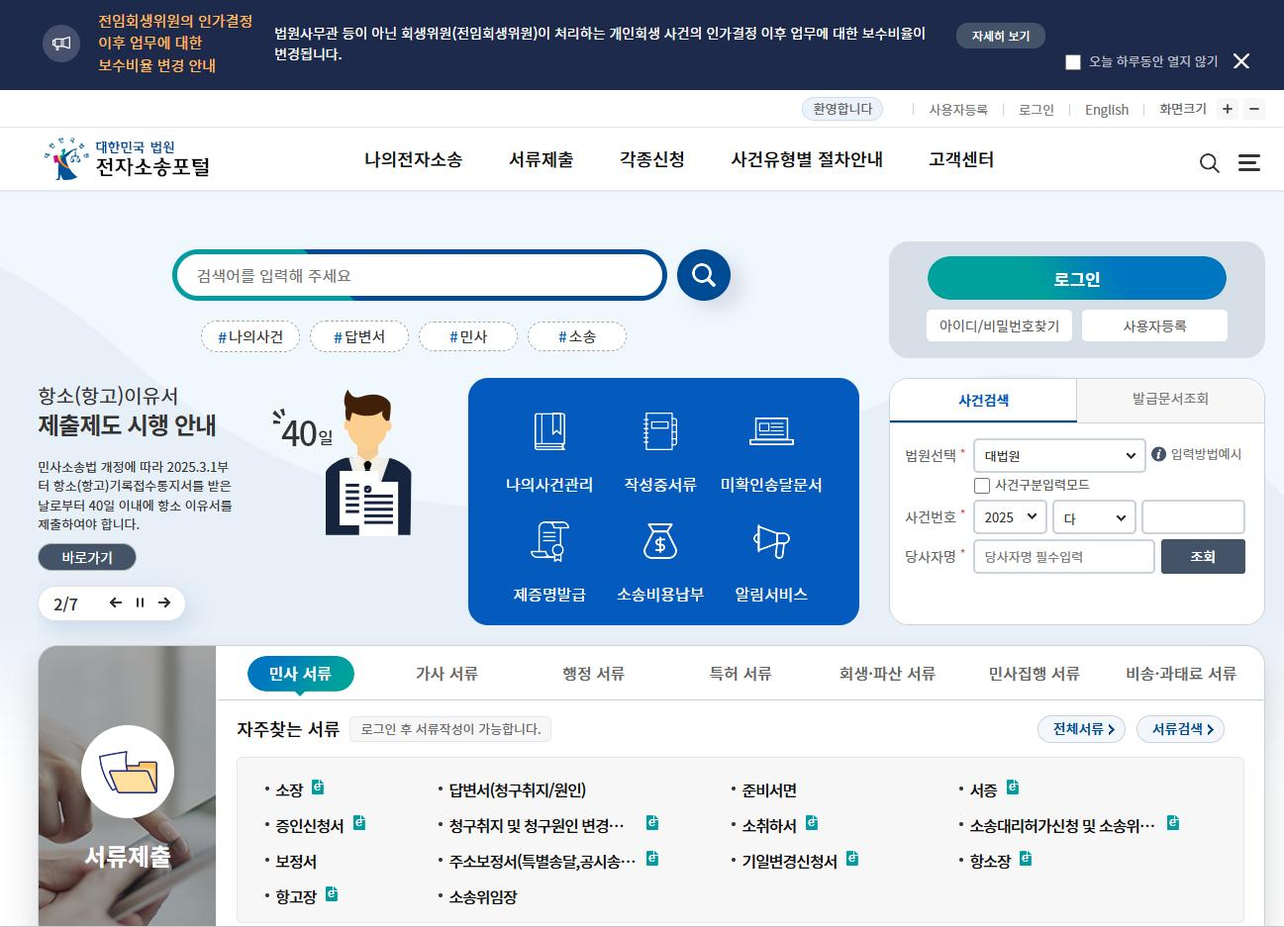button: (943, 257, 1192, 295), (354, 141, 478, 192), (1102, 373, 1236, 417), (909, 383, 1062, 421), (962, 814, 1182, 838), (443, 847, 628, 873), (440, 810, 632, 834), (438, 772, 604, 799), (255, 659, 373, 694), (733, 139, 858, 171), (503, 147, 588, 187), (1095, 308, 1218, 335), (833, 656, 945, 685), (987, 652, 1079, 687), (607, 144, 694, 179), (692, 659, 808, 685), (519, 663, 643, 687), (919, 317, 1064, 336), (399, 660, 498, 687), (1133, 663, 1260, 683), (277, 845, 346, 879), (742, 854, 890, 869), (267, 808, 380, 827), (916, 134, 987, 164), (1168, 541, 1236, 571), (430, 883, 535, 902), (734, 817, 833, 835), (960, 852, 1055, 869), (277, 885, 368, 902), (225, 326, 289, 349), (735, 772, 805, 793), (955, 28, 1041, 44), (1052, 718, 1130, 735), (962, 772, 1023, 793), (273, 775, 338, 794), (935, 96, 979, 119), (1150, 728, 1225, 741), (436, 332, 494, 348), (1011, 98, 1065, 114), (334, 329, 386, 345), (1080, 99, 1124, 116), (1144, 100, 1201, 113), (1237, 151, 1263, 172), (556, 331, 605, 342), (1204, 148, 1223, 174), (1225, 98, 1254, 114), (1232, 59, 1262, 72)
checkbox: (976, 438, 1146, 464), (1058, 496, 1141, 530), (1058, 54, 1204, 72), (969, 479, 1089, 495), (981, 502, 1044, 531)
input_field: (171, 253, 662, 293), (967, 548, 1167, 574), (1147, 503, 1223, 530)
popup: (8, 0, 1284, 90)
